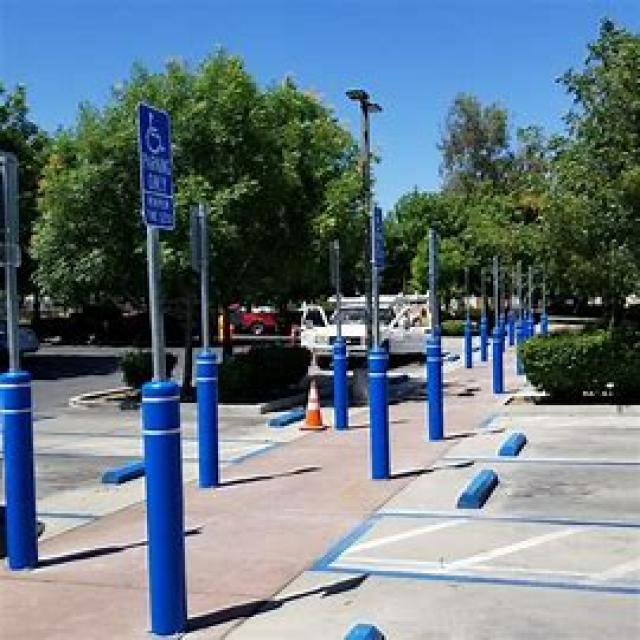car-handicap-placard: (144, 110, 170, 165)
